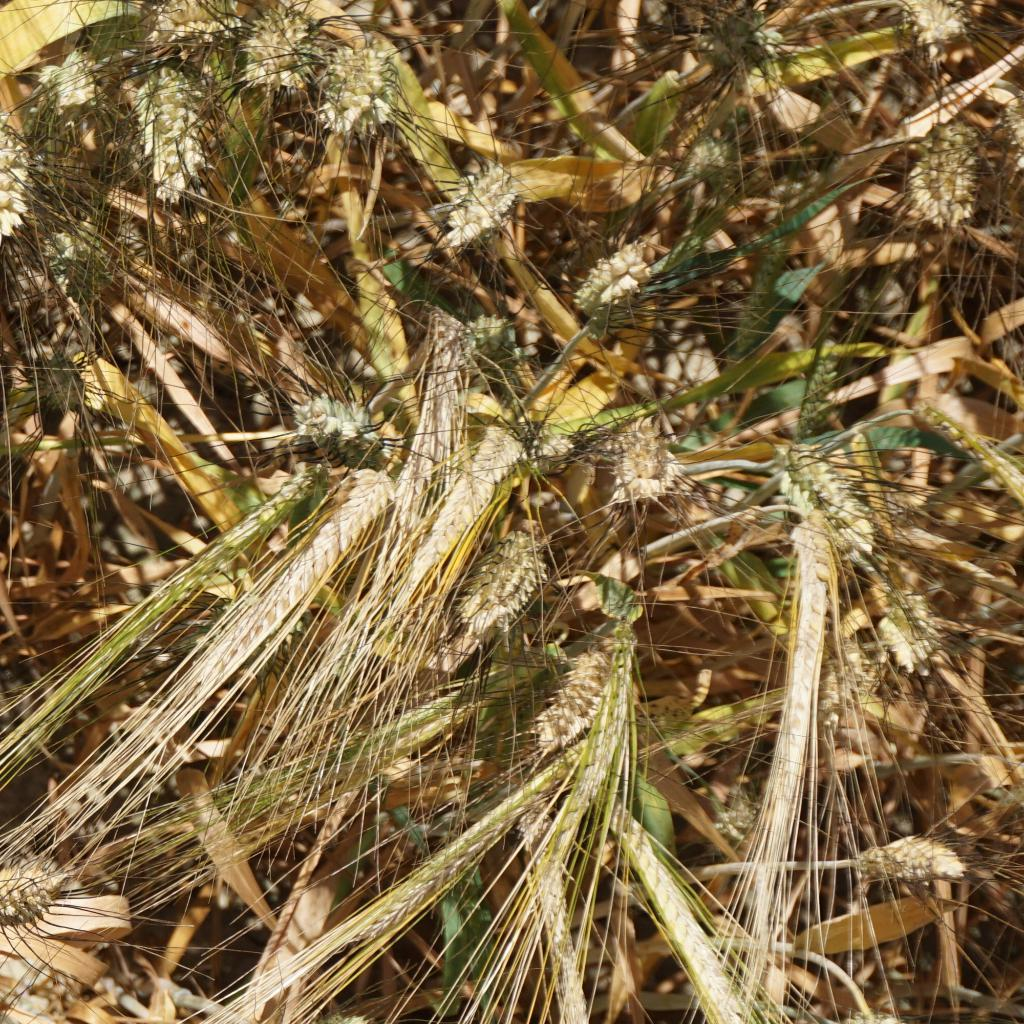0-0: (241, 465, 399, 621), (573, 773, 687, 930), (570, 604, 637, 802), (426, 426, 527, 546), (132, 62, 213, 211), (783, 437, 882, 555), (905, 403, 1024, 492), (302, 44, 411, 137), (568, 235, 660, 335), (455, 543, 552, 633), (916, 123, 992, 233), (595, 417, 681, 507), (431, 163, 523, 245), (529, 647, 612, 732), (239, 8, 314, 98), (787, 509, 842, 629), (774, 345, 845, 437), (851, 832, 969, 887), (693, 4, 781, 77), (811, 631, 872, 727), (732, 236, 786, 343), (882, 575, 944, 666), (144, 0, 239, 51), (30, 48, 101, 116), (300, 397, 387, 451), (460, 299, 520, 370), (35, 216, 102, 278), (18, 349, 90, 406), (0, 867, 63, 926), (895, 0, 958, 59), (720, 774, 772, 841), (0, 107, 23, 256), (254, 473, 313, 524), (527, 423, 576, 477), (671, 131, 730, 175), (993, 90, 1024, 154)
